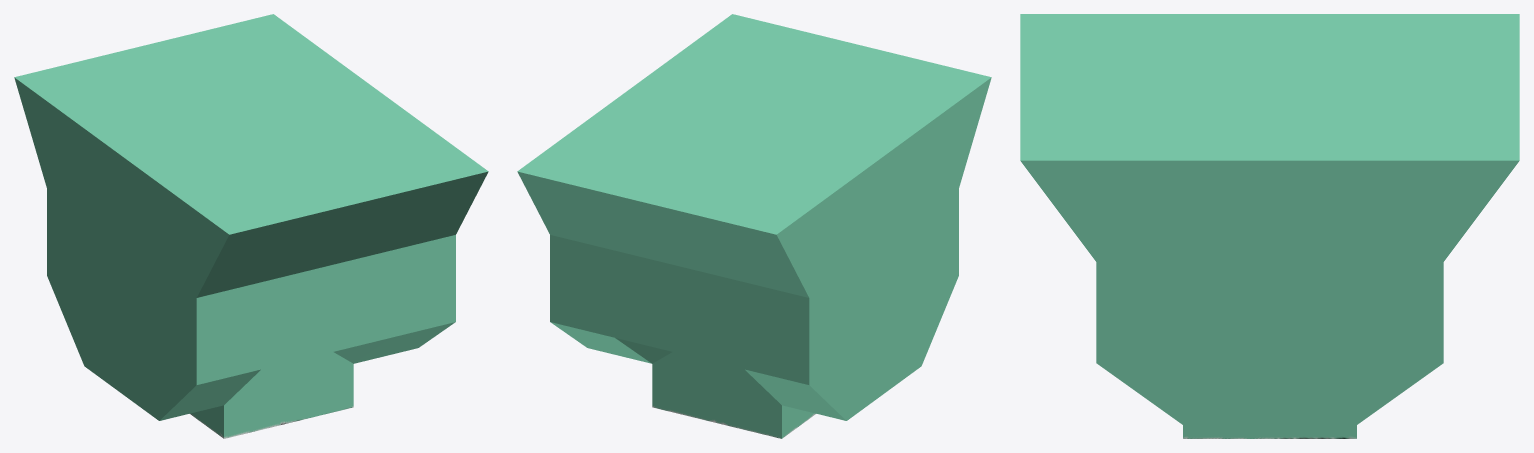
The model's file is enemyModel.obj.
The picture shows the model from 3 angles, left to right: view 1: azimuth 30°, elevation 25°; view 2: azimuth 150°, elevation 25°; view 3: azimuth 270°, elevation 25°; orthographic projection. The views are drawn at different scales.
Parts seen in each view (by area): view 1: Cube.001; view 2: Cube.001; view 3: Cube.001.
Boxes of the visible parts, x1,y1,x2,y2 form: Cube.001: (14,14,488,438); Cube.001: (517,14,991,438); Cube.001: (1020,14,1519,438).
Bounding box in the file's own units: 2 × 2 × 2.87.
